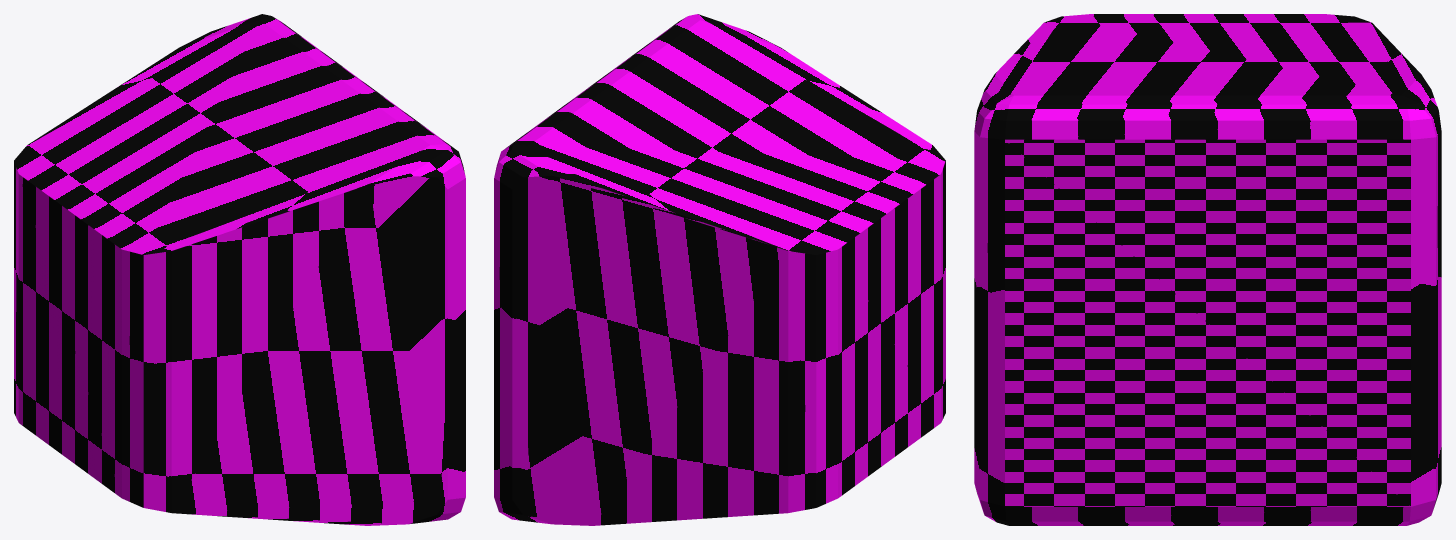
Rendered from speaker.glb.
3 renders of one model, left to right at view 1: azimuth 30°, elevation 25°; view 2: azimuth 150°, elevation 25°; view 3: azimuth 270°, elevation 25°, orthographic. The views are drawn at different scales.
Visible parts, largest first — view 1: Cube; view 2: Cube; view 3: Cube.
Part boxes in pixels (<box>): Cube: <box>14,14,465,525</box>; Cube: <box>494,14,945,525</box>; Cube: <box>974,14,1441,525</box>.
Size of the model in its own units: 0.2519 by 0.296 by 0.2959.
1 material, 1 textured.
